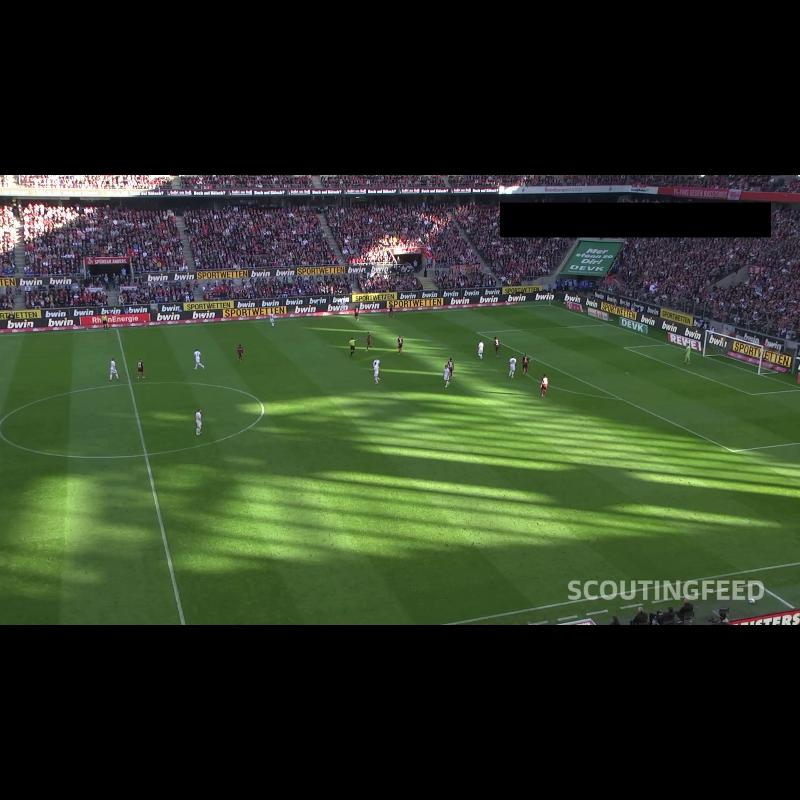cross_recipient_zone: (477, 325, 800, 451)
crossing_player_zone: (585, 442, 800, 572), (343, 305, 609, 339)
pitch: (0, 305, 800, 625)
